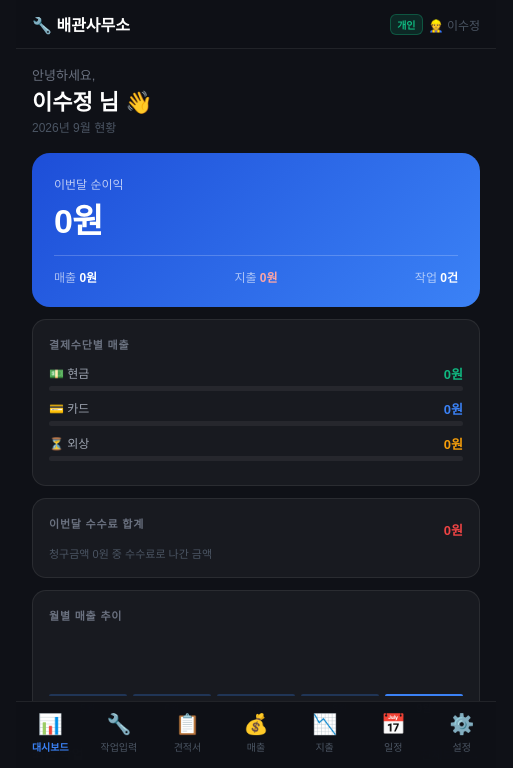
Test: canUseSchedule이 켜져있으면 '일정' 탭이 보이고, 탭을 누르면 일정 목록이 뜬다
This screenshot has width=513, height=768.
Click the text "일정". click: x=393, y=746
box: [384, 739, 402, 754]
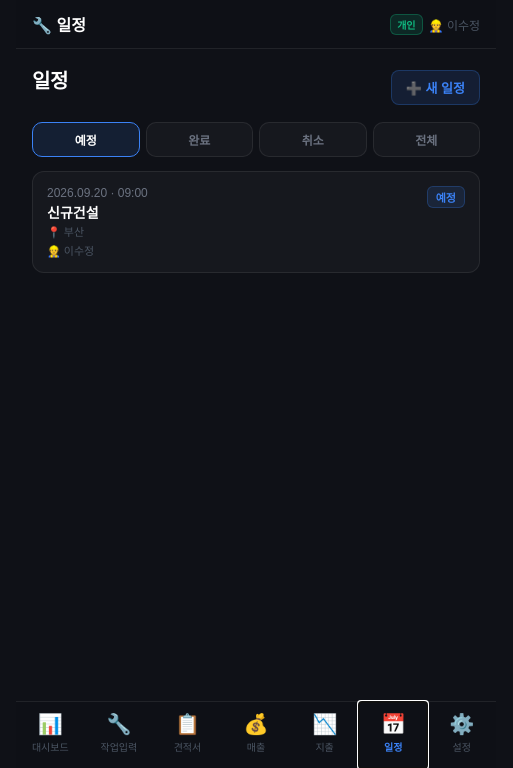
Now the text "신규건설" is shown, box [47, 205, 98, 221]
